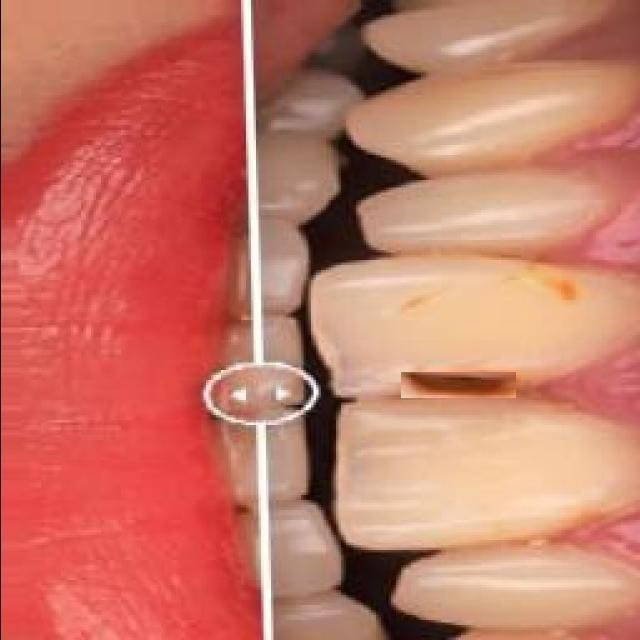decay: (400, 372, 515, 398)
